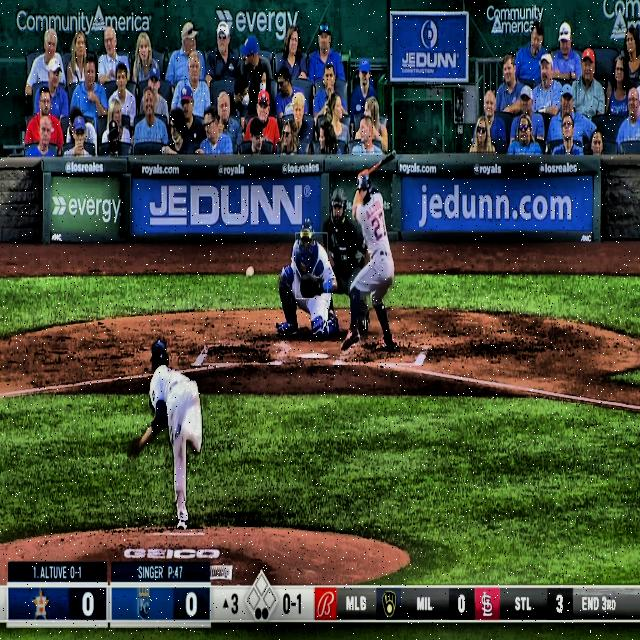baseball: (246, 265, 254, 279)
